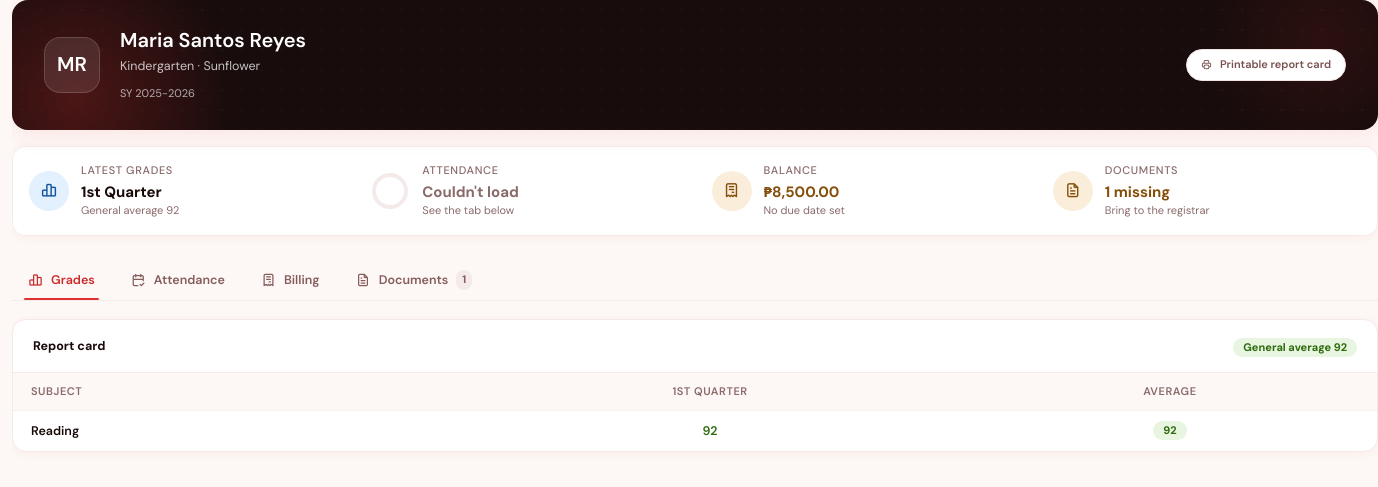
Test: GuardianChildPage — a failed fetch is never reported as 'nothing owed' › says the attendance section failed rather than 'No attendance records yet'
This screenshot has width=1378, height=487.
Check: the heading "Maria Santos Reyes" is shown, box x1=120 y1=27 x2=306 y2=53
Click the tab "Attendance": (178, 280) x1=115 y1=261 x2=241 y2=300
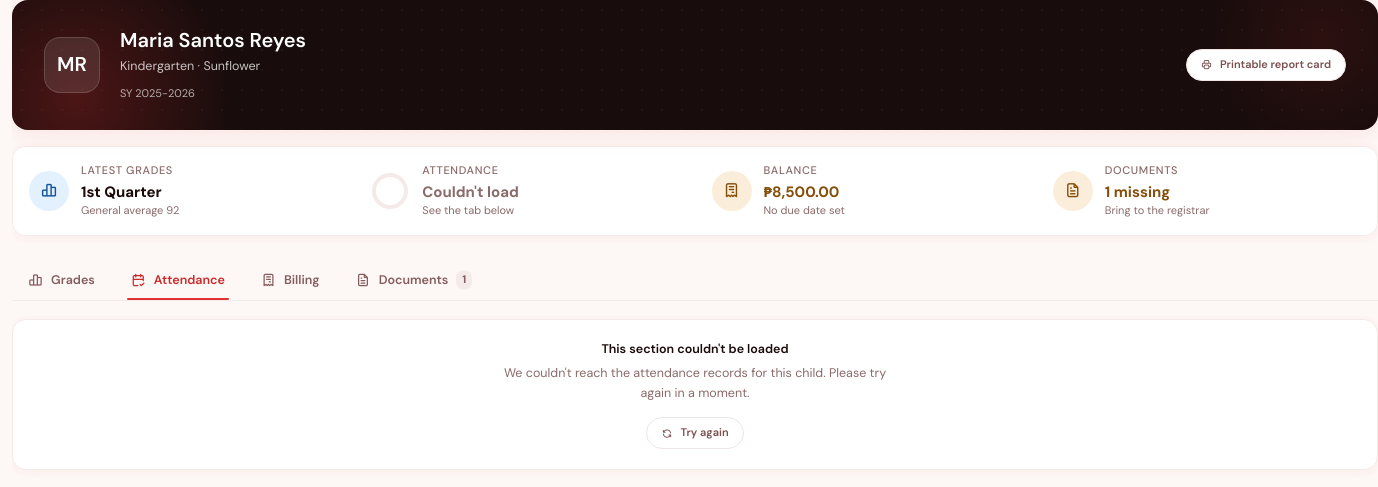
Check: the text "This section couldn't be loaded" is shown, box x1=601 y1=341 x2=789 y2=357
